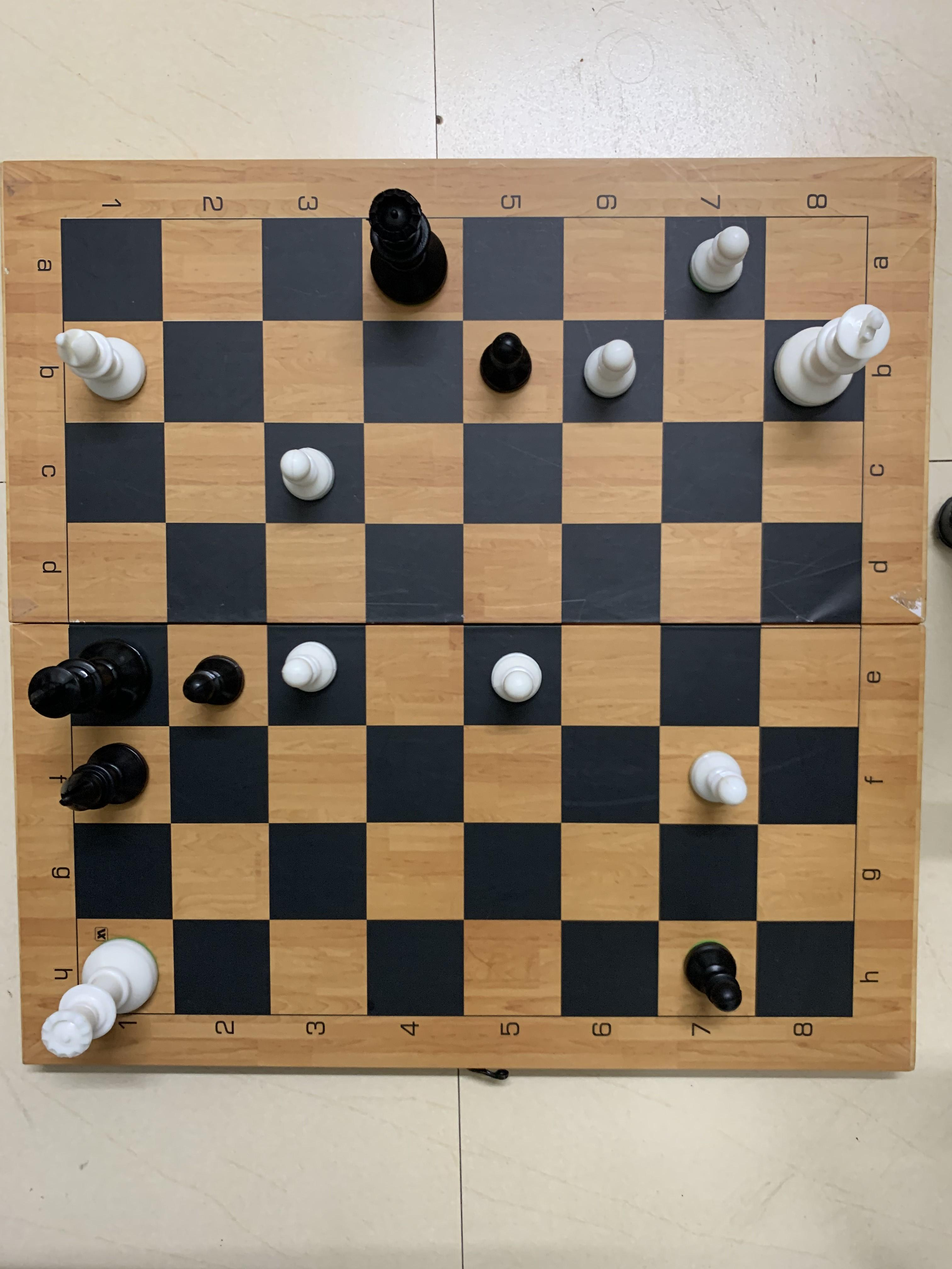black_bishop: (38, 745, 171, 821)
black_king: (27, 625, 158, 737)
black_pawn: (677, 931, 764, 1037)
black_queen: (352, 181, 449, 318)
white_bishop: (52, 311, 156, 418)
white_king: (774, 305, 902, 412)
white_pawn: (686, 215, 761, 315), (685, 743, 765, 823), (580, 328, 646, 414), (275, 437, 342, 516), (477, 644, 552, 708), (276, 636, 343, 703)
white_queen: (27, 928, 163, 1079)
